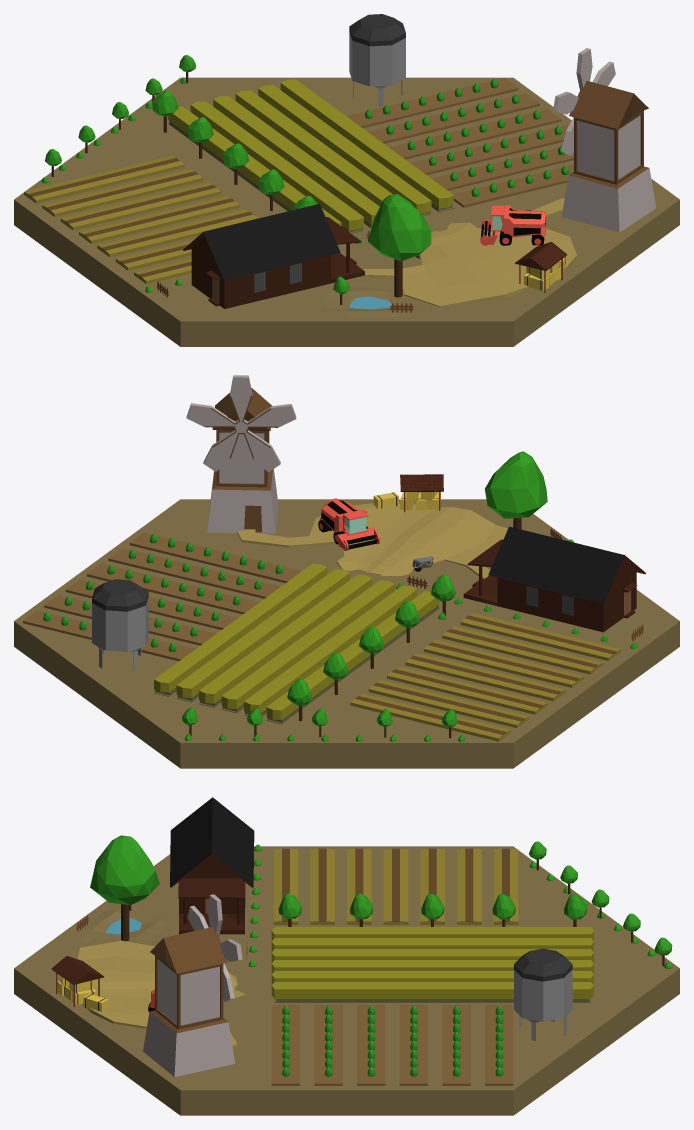
File: Farm 1.fbx
3 views of the same model, one above another, from view 1: azimuth 30°, elevation 25°; view 2: azimuth 150°, elevation 25°; view 3: azimuth 270°, elevation 25° (orthographic).
Visible parts, largest first — view 1: Cube.002; view 2: Cube.002; view 3: Cube.002.
Boxes of the visible parts, left/top/right/bottom form: Cube.002: left=14, top=14, right=679, bottom=346; Cube.002: left=14, top=375, right=679, bottom=768; Cube.002: left=14, top=797, right=679, bottom=1115.
Size of the model in its own units: 100 by 34.57 by 116.
